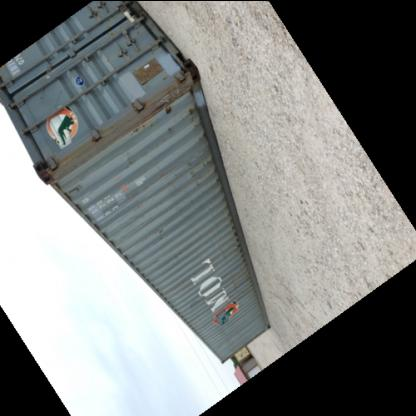Damage: (181, 265, 249, 309), (178, 155, 219, 195), (186, 96, 209, 145), (211, 231, 230, 263), (150, 91, 174, 111), (128, 116, 154, 134), (119, 146, 139, 169), (152, 221, 168, 240), (161, 126, 177, 137)
